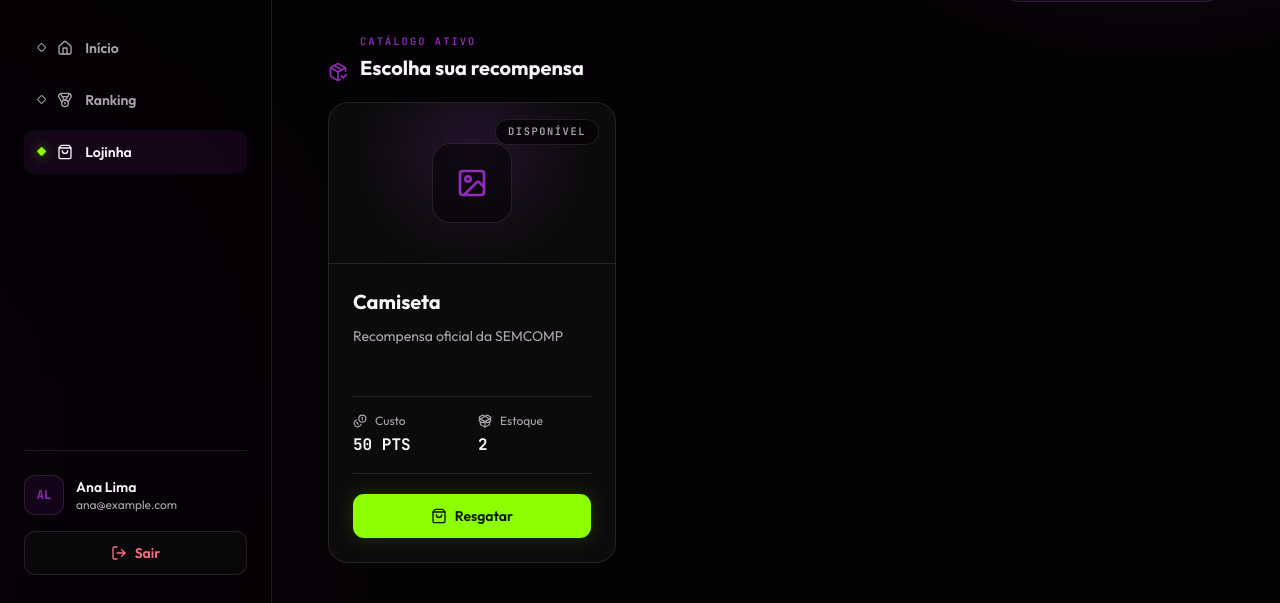
Scenario: ShopClient › mantém o diálogo aberto e mostra a falha de resgate em contexto
The image size is (1280, 603).
(page scrolled)
Click the button "Resgatar": (472, 516) top-left (353, 494), bottom-right (591, 538)
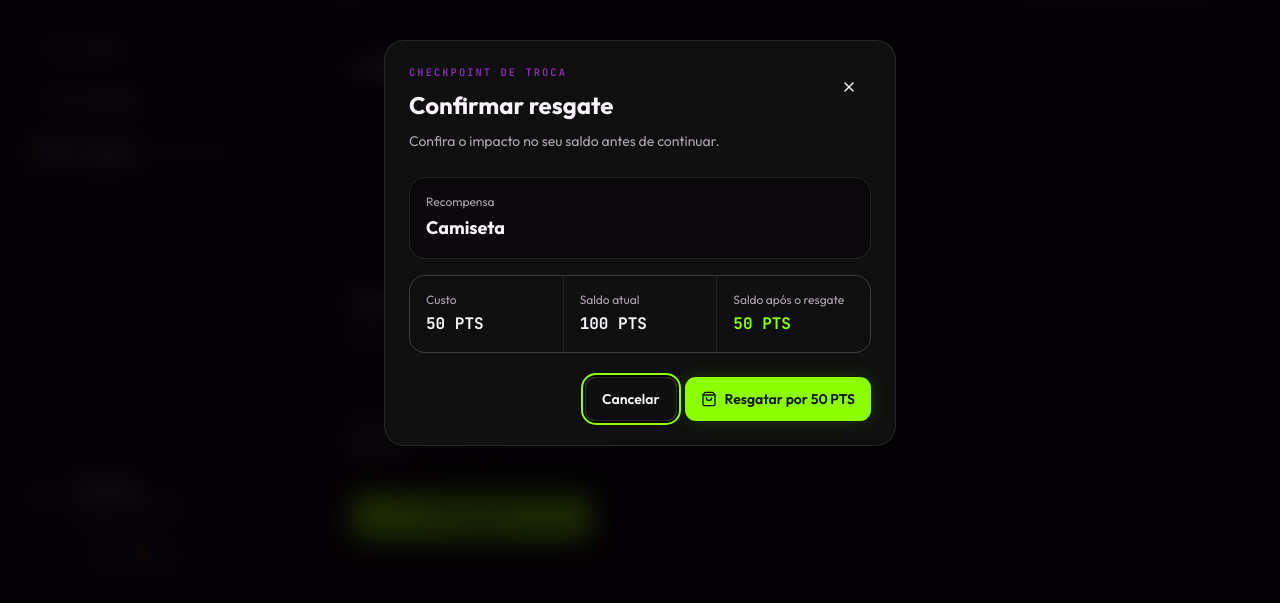
Click the button "Resgatar por 50 PTS": (778, 399) top-left (685, 377), bottom-right (871, 421)
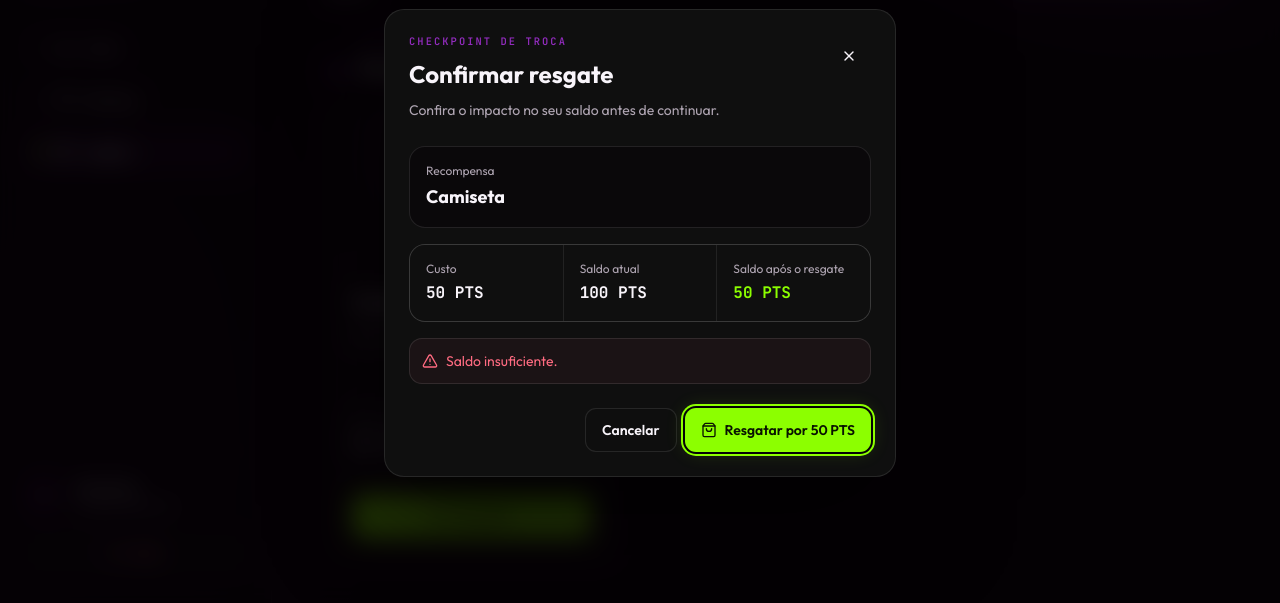
expect the dialog is shown: met, box top-left (384, 9), bottom-right (896, 477)
expect the message reads "Saldo insuficiente.": met, box top-left (446, 352), bottom-right (558, 370)
